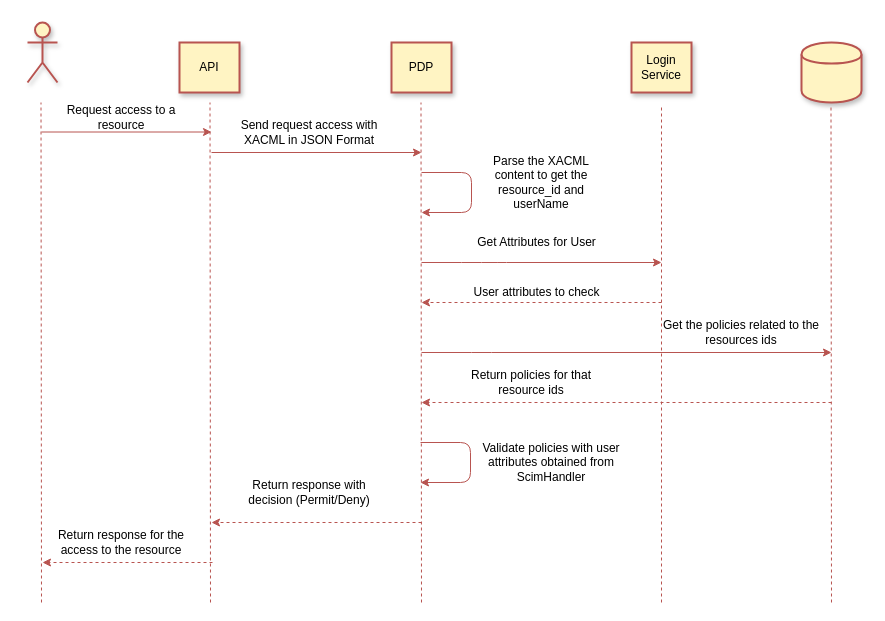
The diagram is 885 pixels wide and 621 high, and some of its shapes have lost their labels. Each missing label, with the centre of its shape:
"Back-end Database" belongs at point (832, 73).
"End User" belongs at point (43, 53).
